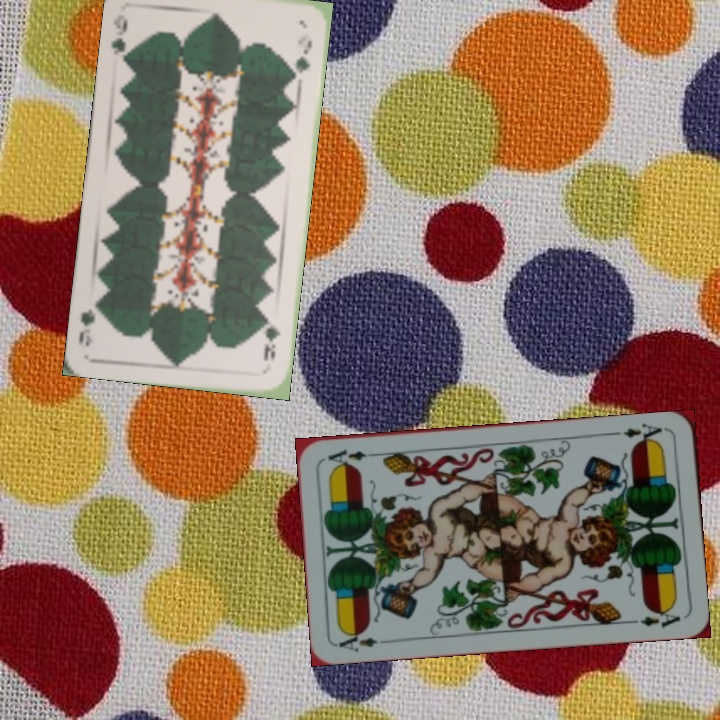EA: (619, 420, 669, 448), (335, 627, 380, 655)
G9: (107, 11, 133, 64), (259, 314, 282, 364)
